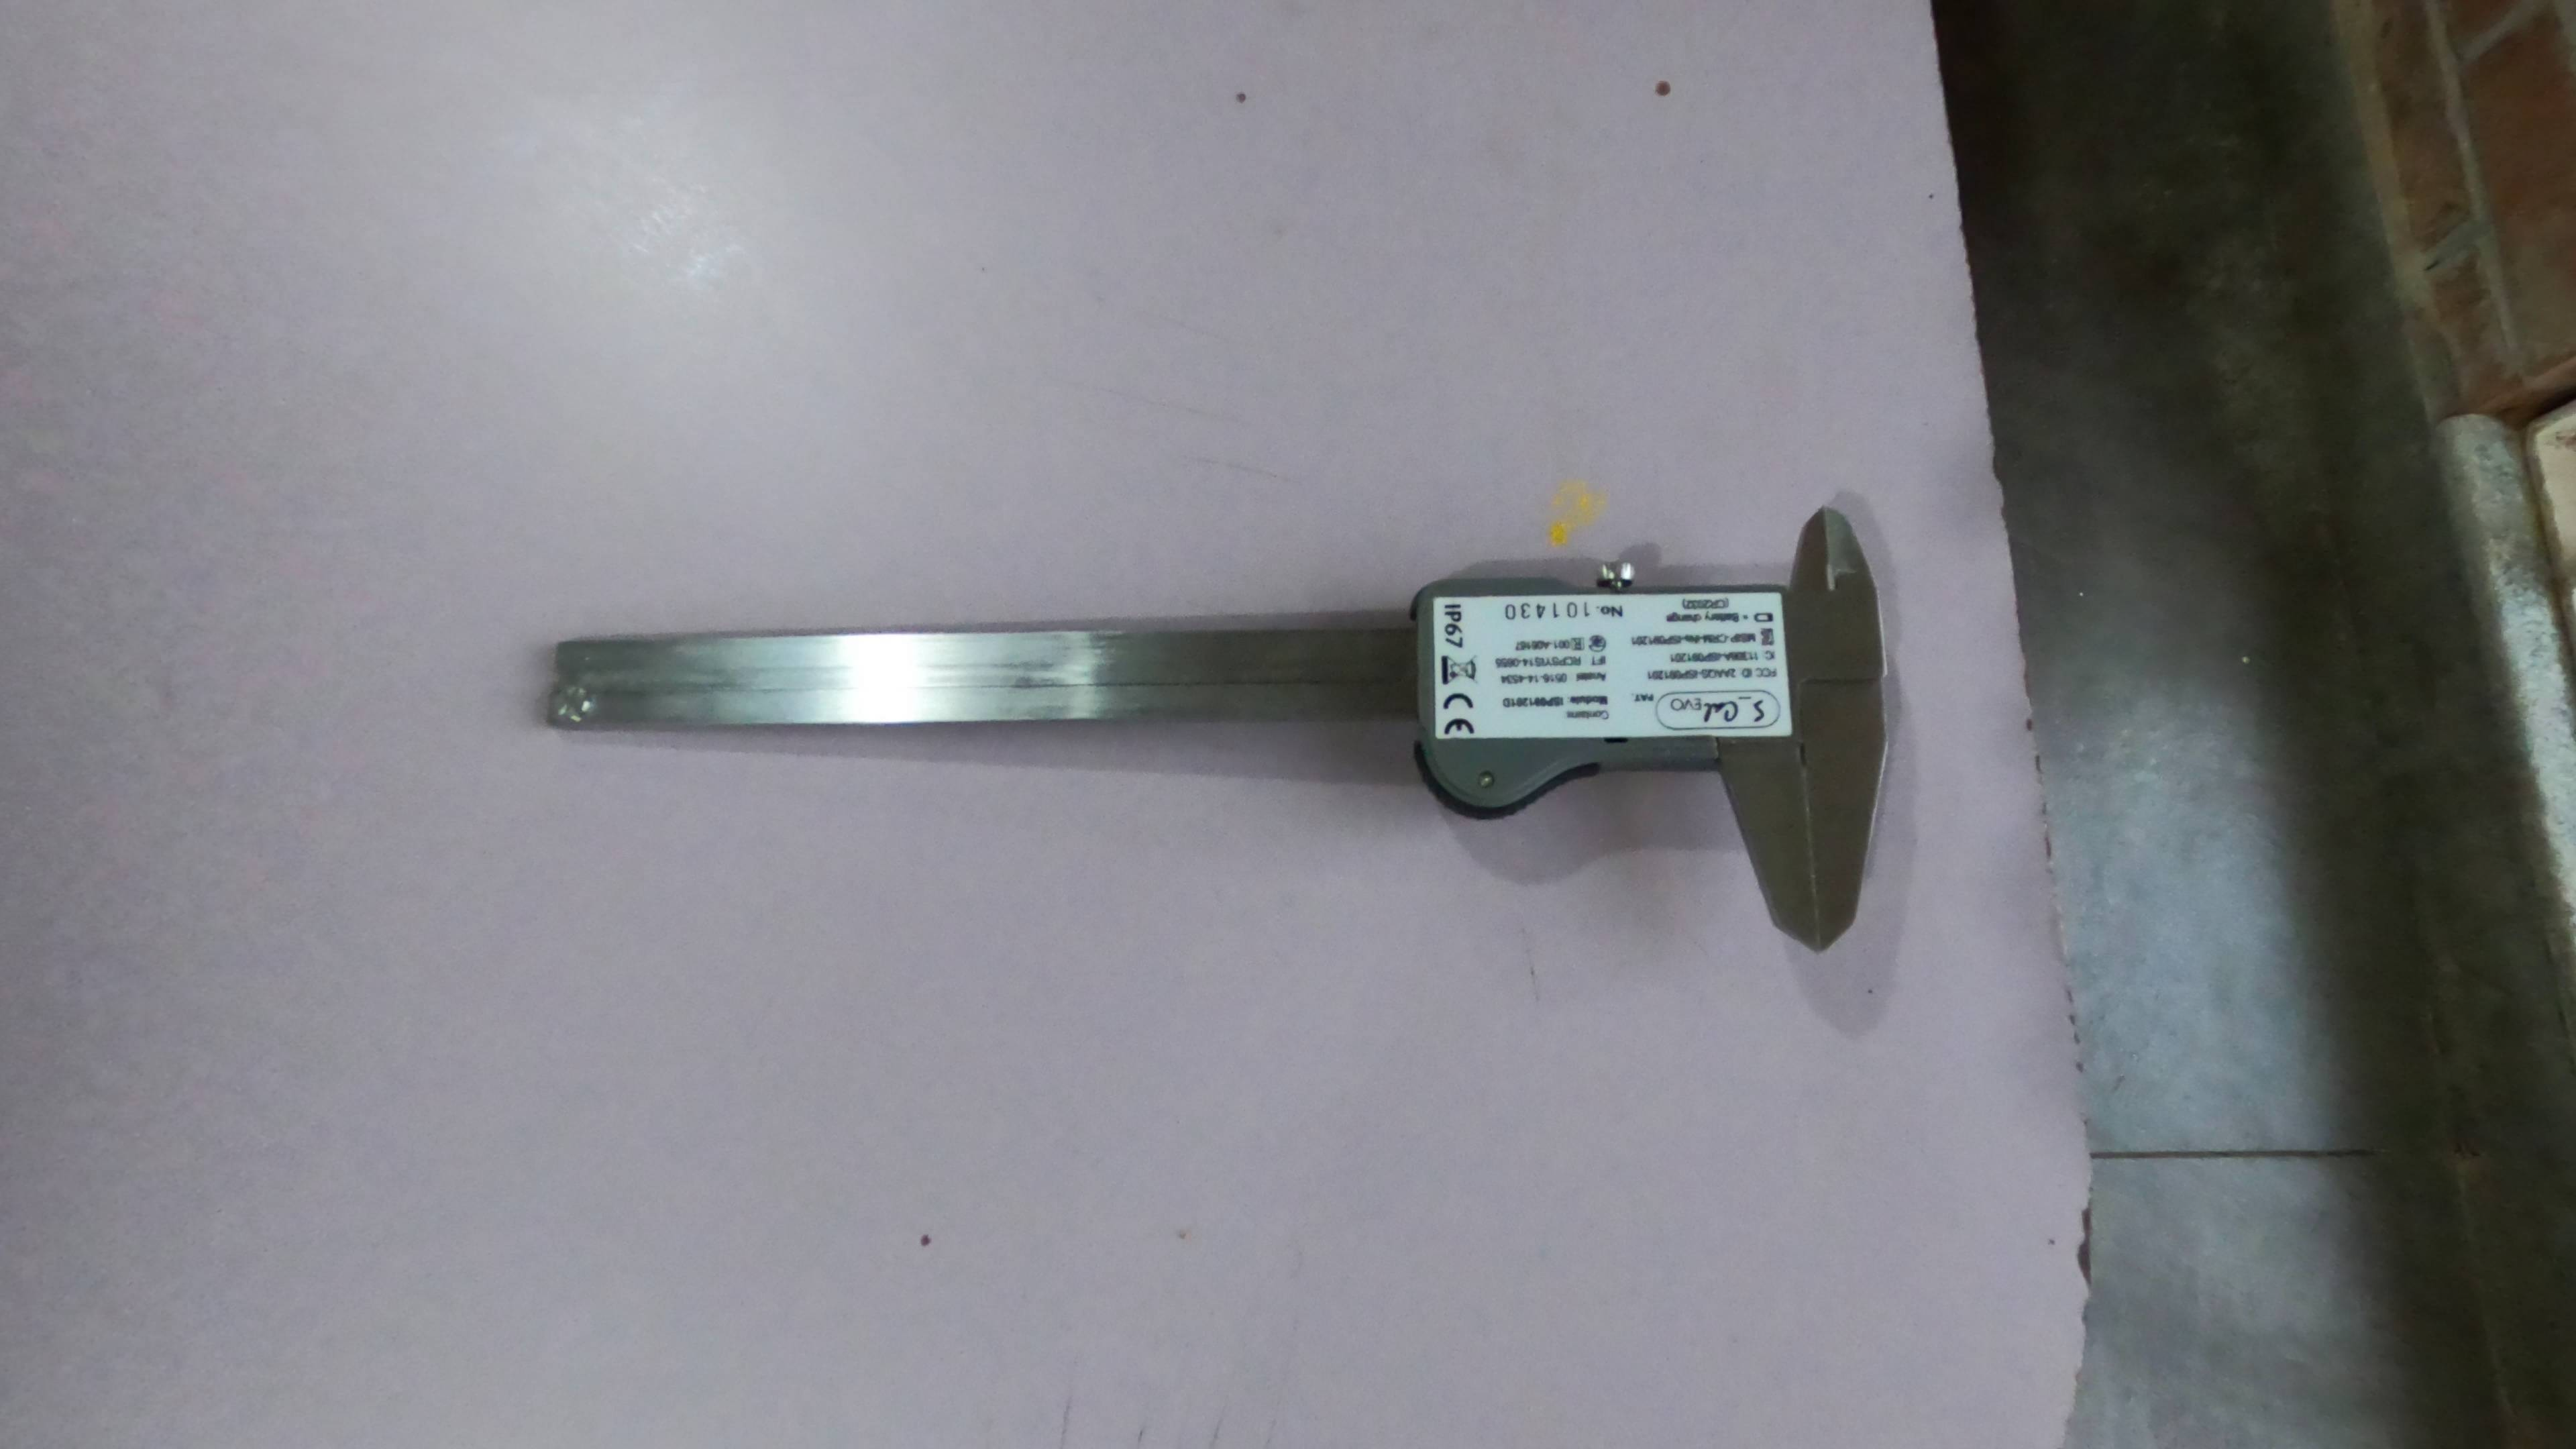vernier_caliper: (540, 502, 1891, 955)
